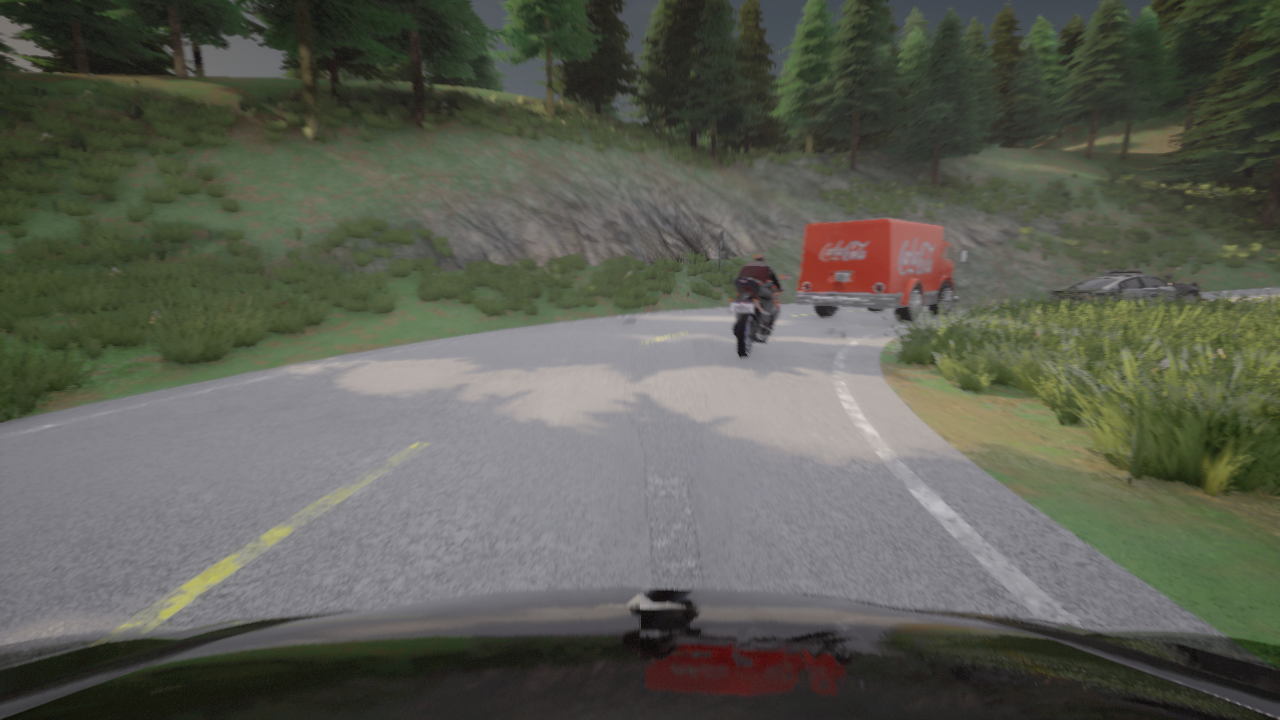cyclist: (0, 588, 1279, 719), (796, 218, 968, 322), (727, 274, 791, 358), (1049, 270, 1199, 304)
